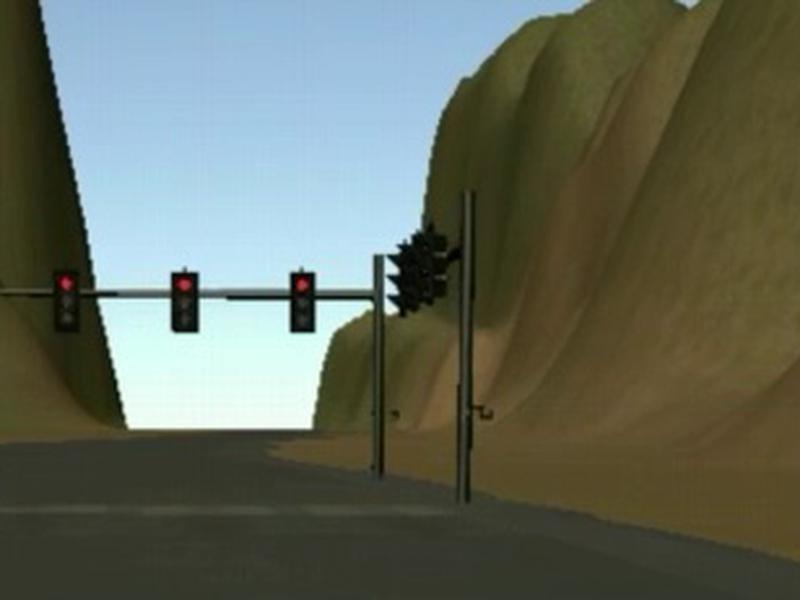Red: (170, 273, 199, 333), (54, 270, 80, 334), (288, 273, 315, 333)
